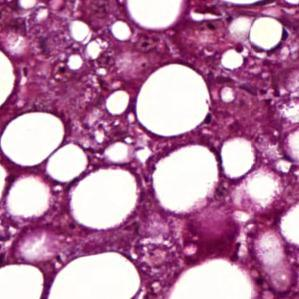steatosis: (136, 61, 211, 138), (47, 250, 141, 299), (0, 112, 65, 166), (0, 46, 14, 109)
